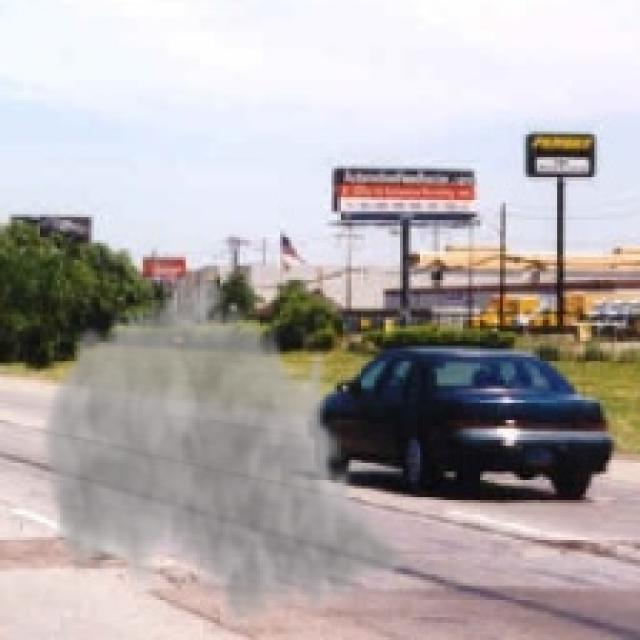smoke: (37, 263, 409, 637)
